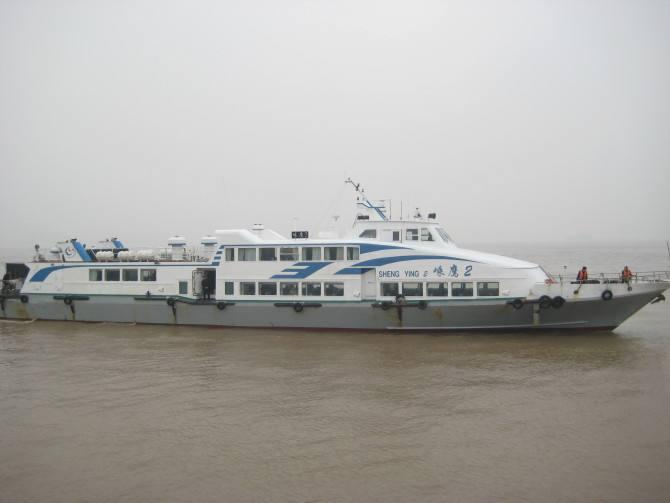yacht: (1, 177, 670, 329)
